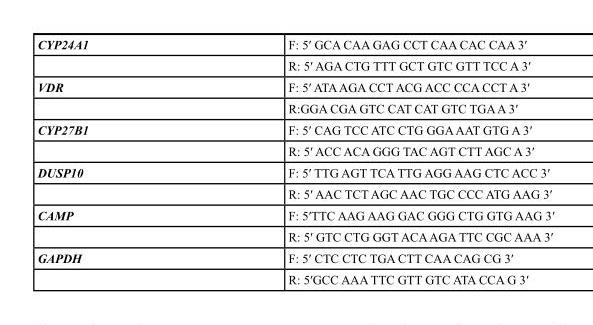table: (36, 36, 553, 286)
table column: (187, 36, 553, 286), (36, 36, 187, 286)
table row: (36, 75, 553, 97), (36, 118, 553, 140), (36, 182, 553, 204), (36, 225, 553, 247), (36, 54, 553, 75), (36, 97, 553, 118), (36, 140, 553, 161), (36, 161, 553, 182), (36, 204, 553, 225), (36, 247, 553, 268), (36, 36, 553, 54), (36, 268, 553, 286)
table spanning cell: (36, 75, 187, 118), (36, 118, 187, 161), (36, 161, 187, 204), (36, 204, 187, 247), (36, 36, 187, 75), (36, 247, 187, 286)
